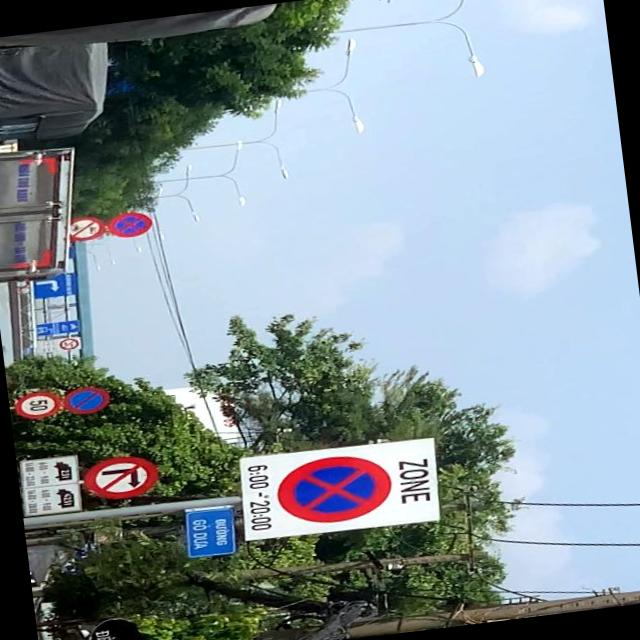P-123b: (81, 452, 161, 501)
P-127: (15, 391, 60, 419)
P-130: (272, 450, 395, 528)
P-131a: (61, 382, 110, 416)
